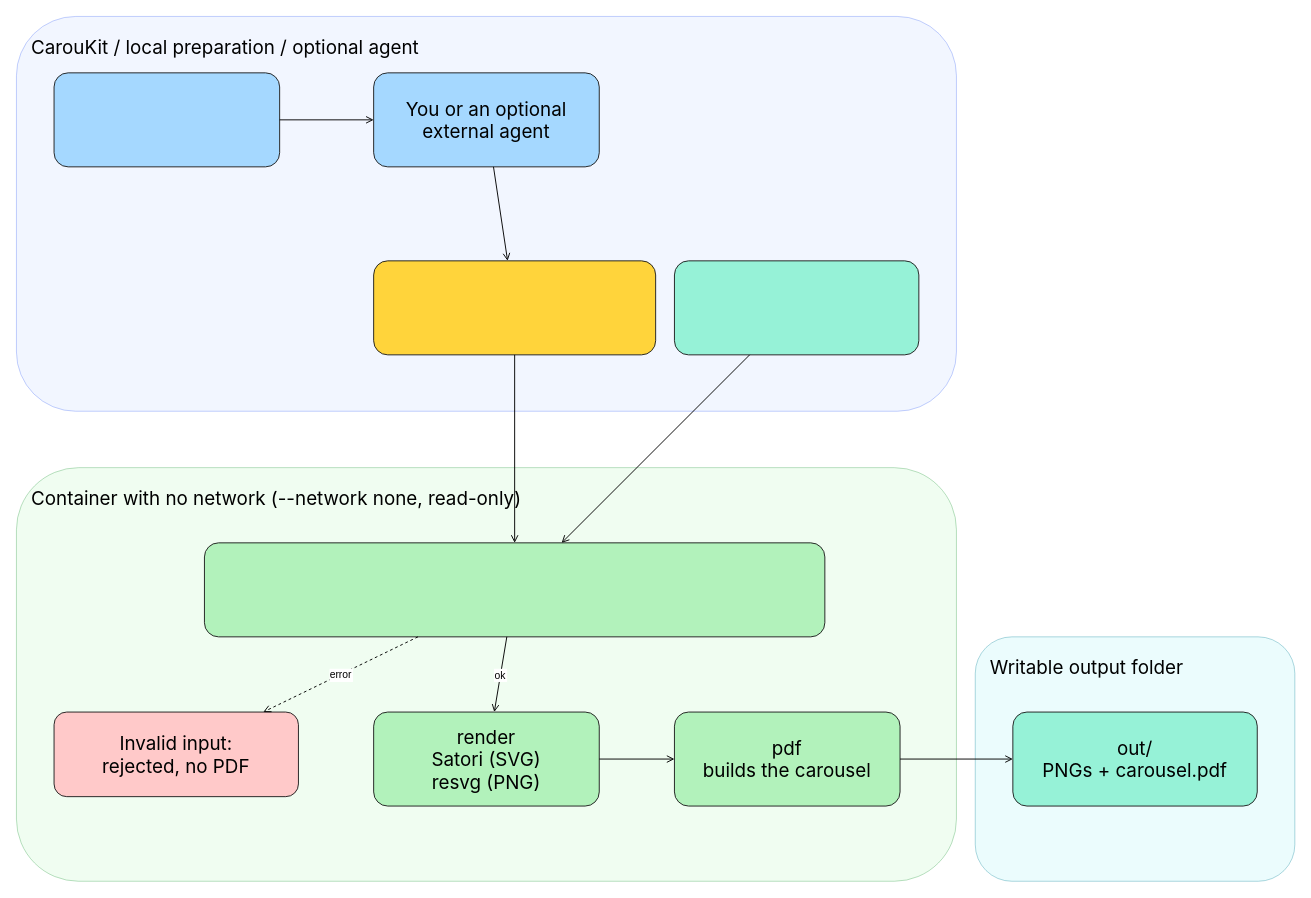
This 1311x898 diagram has some shape labels left out. The centre of each missing label's shape, as x and y in pixels:
"Output preset CLI / dimensions" goes at [796,307].
"slides.json content + theme" goes at [514,307].
"User-provided prepared content" goes at [166,119].
"validate structure, limits and technical rules" goes at [514,589].
